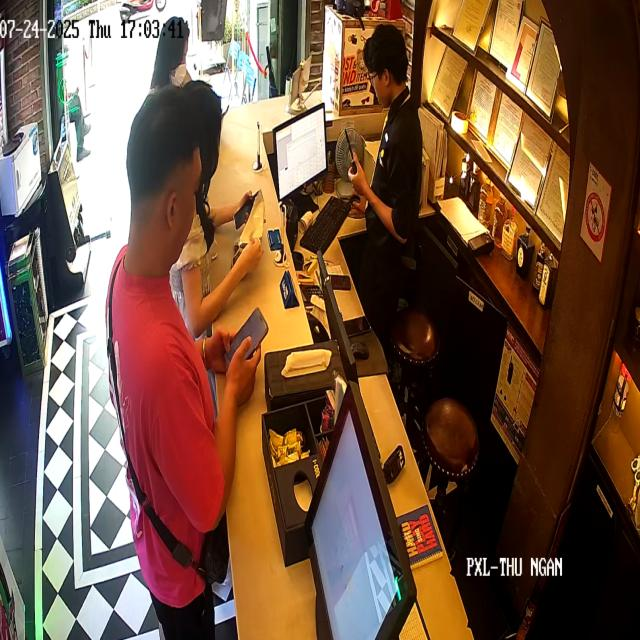khach: (116, 88, 215, 614), (200, 66, 274, 312), (140, 8, 208, 98)
nhan vien: (354, 24, 437, 377)
